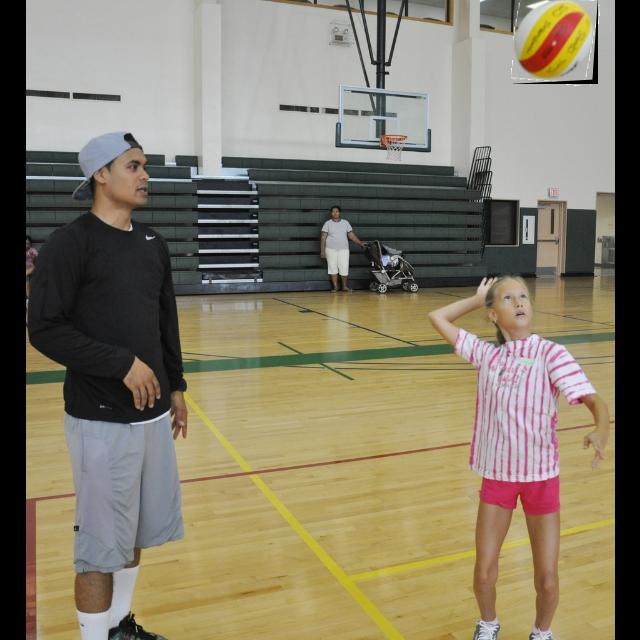Football: (513, 0, 598, 84)
